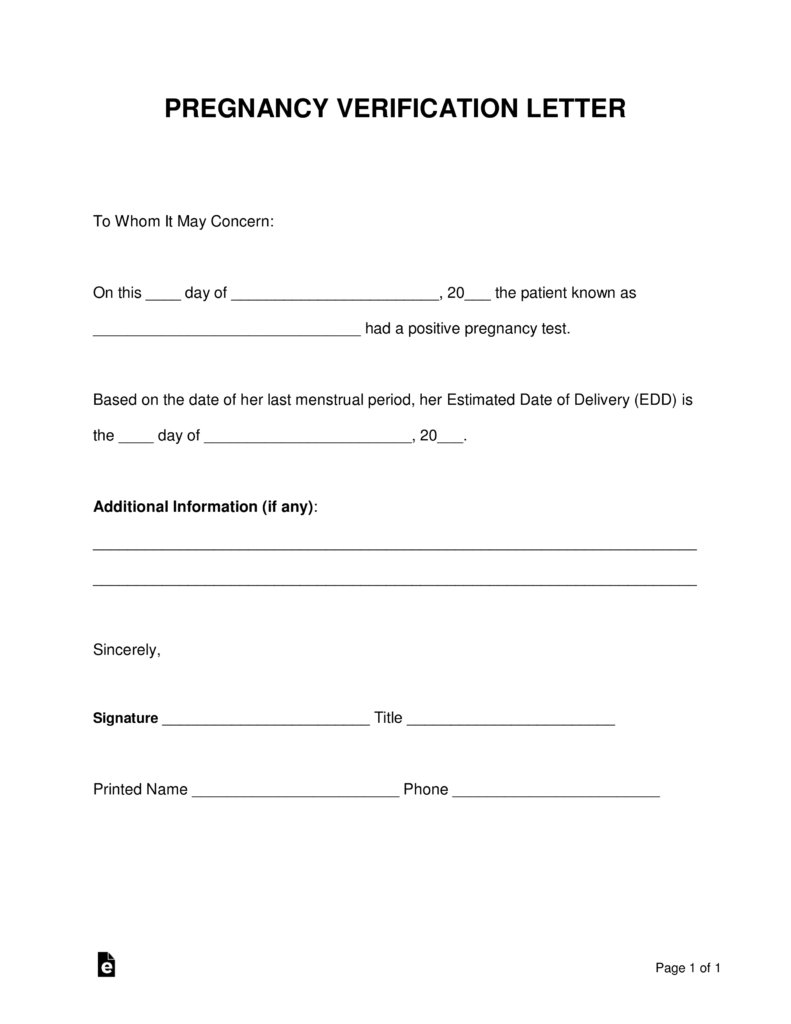textline: (86, 568, 710, 602), (83, 530, 707, 560), (404, 705, 628, 740), (447, 779, 676, 813), (228, 277, 449, 309), (159, 702, 375, 734), (85, 317, 367, 341), (201, 420, 415, 450), (188, 780, 404, 807), (139, 284, 188, 306), (436, 428, 475, 454), (116, 426, 158, 448), (466, 290, 500, 306)
